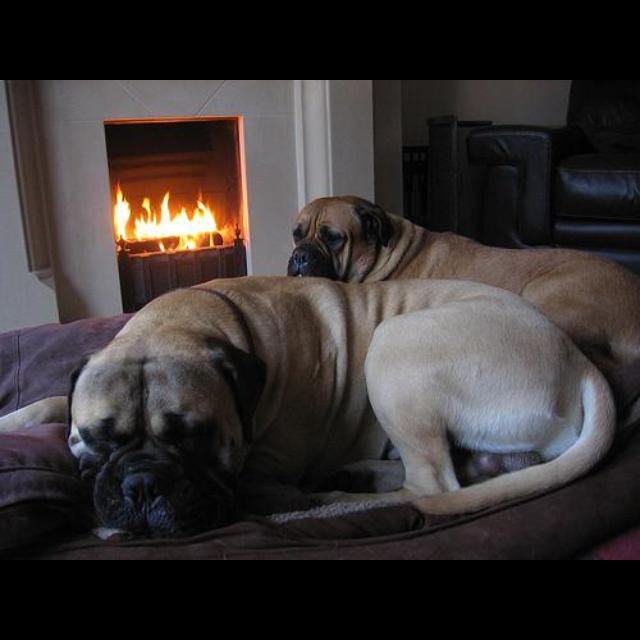bullmastiff: (1, 274, 617, 541), (287, 196, 640, 441)
